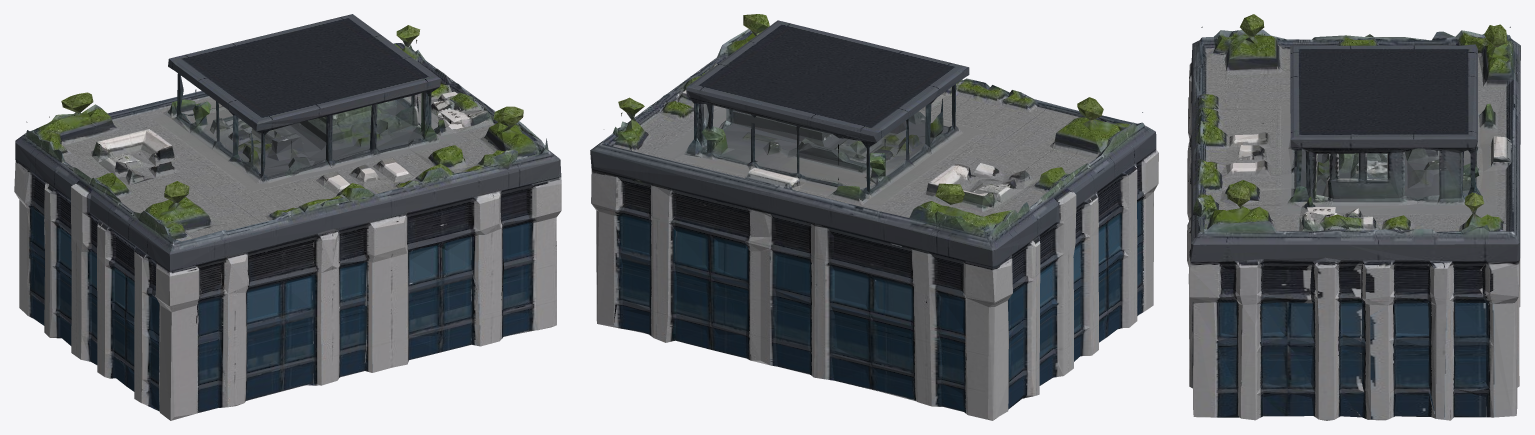
File: kit5-roof.glb
3 renders of one model, left to right at view 1: azimuth 30°, elevation 25°; view 2: azimuth 150°, elevation 25°; view 3: azimuth 270°, elevation 25°, orthographic. The views are drawn at different scales.
Parts seen in each view (by area): view 1: Mesh_0.001; view 2: Mesh_0.001; view 3: Mesh_0.001.
Part boxes in pixels (x1,y1,x2,y2): Mesh_0.001: [14, 14, 561, 420]; Mesh_0.001: [590, 14, 1158, 420]; Mesh_0.001: [1187, 14, 1520, 420].
Bounding box in the file's own units: 0.9968 × 0.556 × 0.6848.
1 material, 1 textured.
